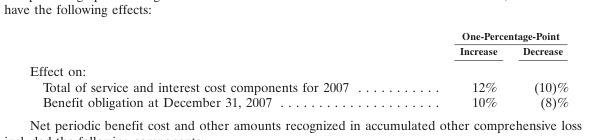table: (28, 29, 568, 109)
table column: (28, 29, 403, 109), (403, 29, 509, 109), (509, 29, 568, 109)
table column header: (28, 29, 568, 59)
table projected row header: (28, 59, 568, 78)
table row: (28, 59, 568, 78), (28, 42, 568, 59), (28, 93, 568, 109), (28, 78, 568, 93), (28, 29, 568, 42)
table spanning cell: (403, 29, 568, 42)
